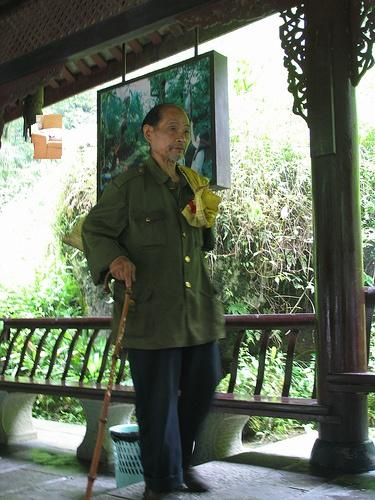tampered: (32, 115, 62, 159)
